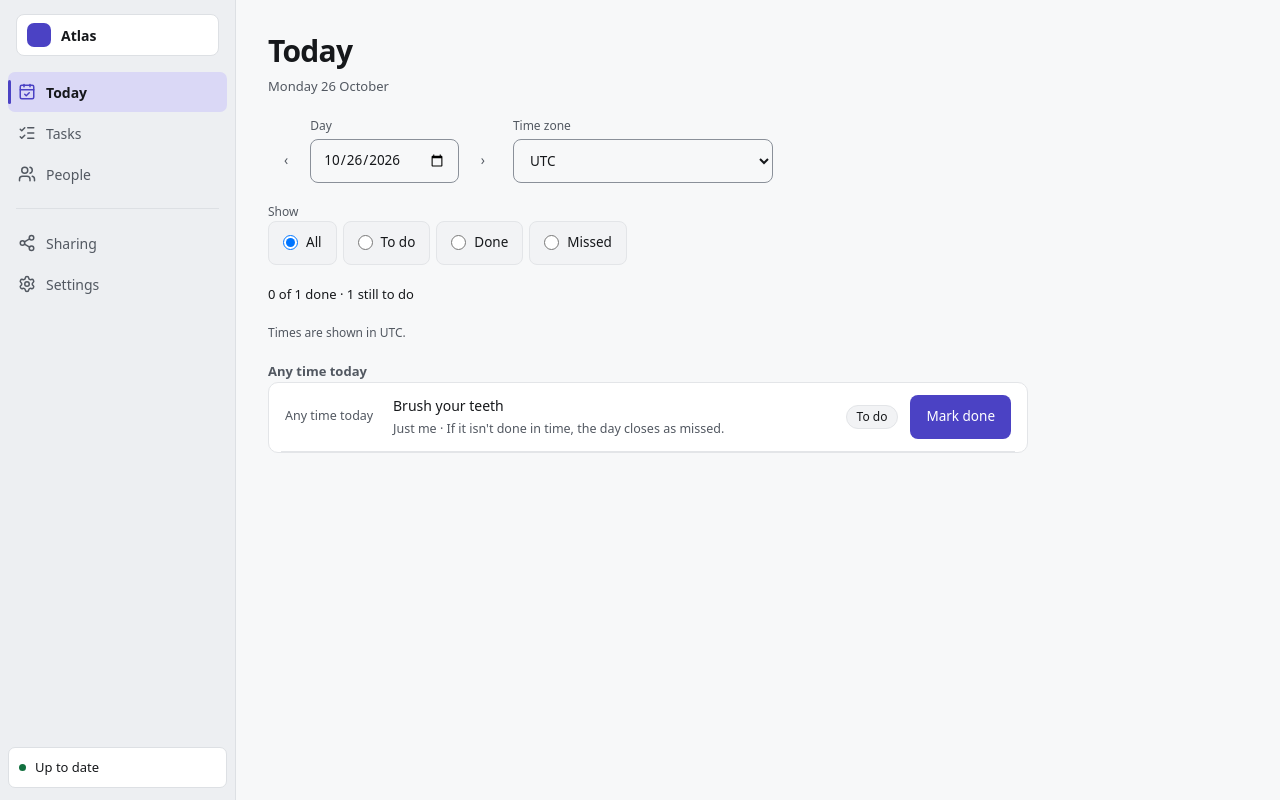
Test case: offline: the day from the cache › a cached task shows with its state; Mark done saves a record draft and the row says so, provisional and not sent
This screenshot has width=1280, height=800.
Expected: the link "Brush your teeth" is shown, [393,396,504,415]
Click the button "Mark done": click(961, 416) [910,394,1011,438]
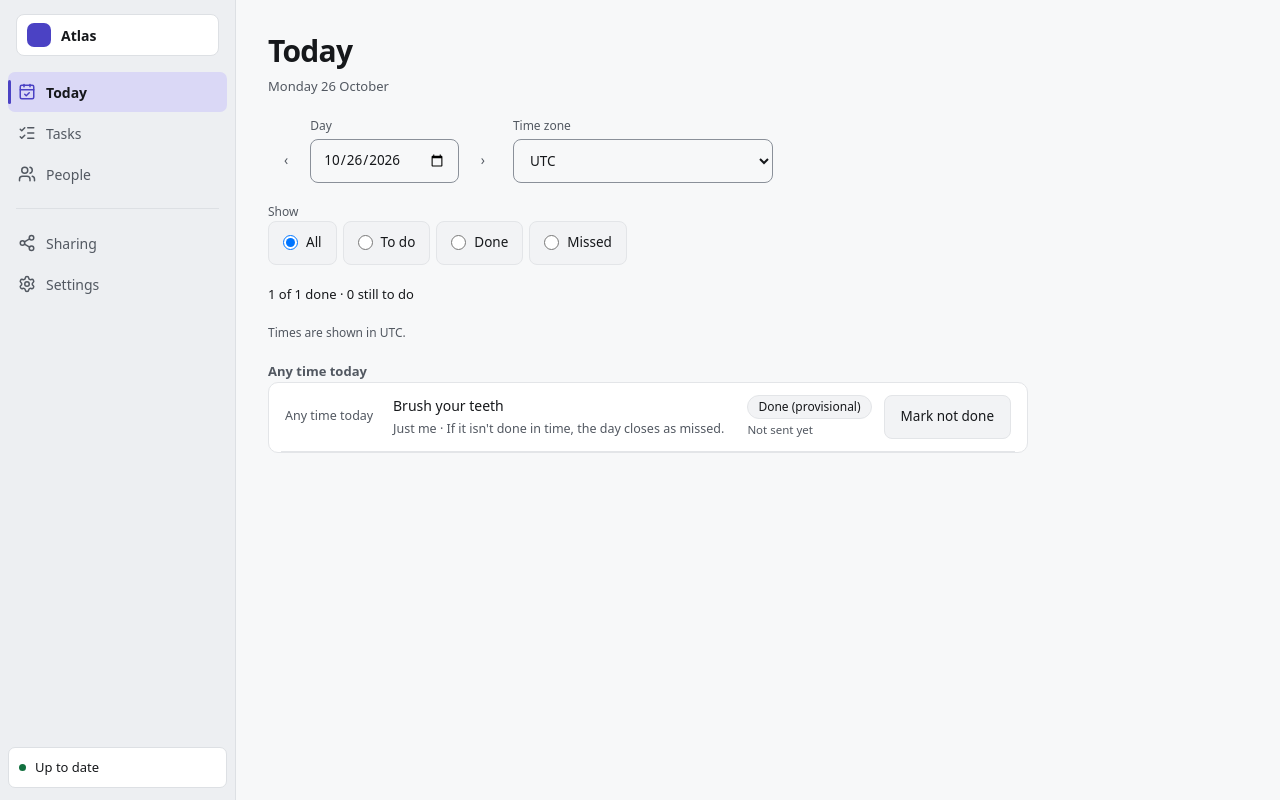
Expected: the text "Not sent yet" is shown, [747,421,813,438]
